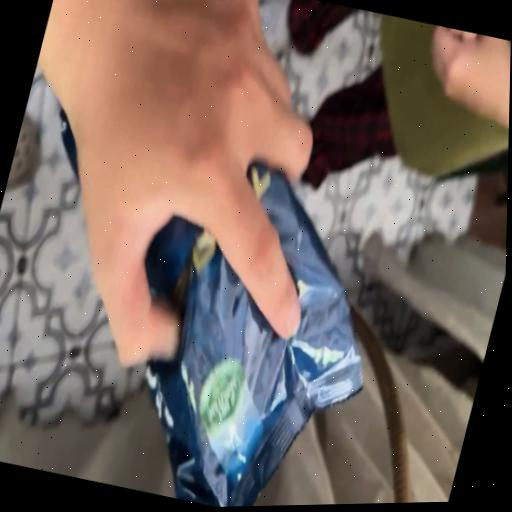cafe_hat: (145, 165, 361, 507), (60, 111, 77, 174)
